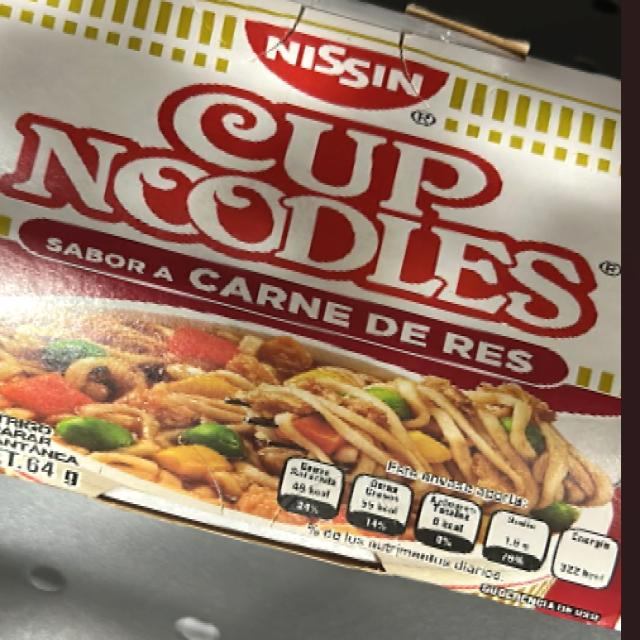nissinRes: (5, 0, 612, 473)
